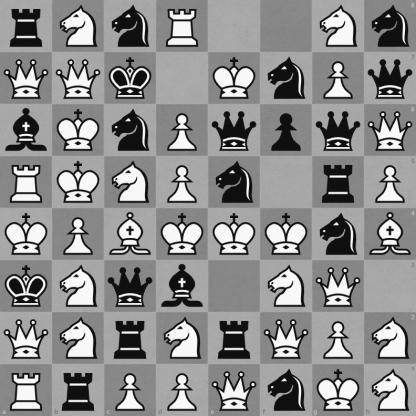B: (364, 209, 416, 260), (105, 209, 156, 260)
K: (312, 364, 364, 416), (1, 209, 52, 260), (53, 105, 104, 156), (53, 157, 104, 208), (157, 209, 208, 260), (209, 53, 260, 104), (209, 209, 260, 260), (261, 209, 312, 260)
N: (364, 312, 416, 364), (364, 364, 416, 416), (53, 1, 104, 52), (53, 261, 104, 312), (53, 313, 104, 364), (105, 157, 156, 208), (157, 313, 208, 364), (261, 261, 312, 312), (313, 1, 364, 52)
P: (156, 364, 209, 416), (364, 156, 416, 209), (104, 364, 156, 416), (53, 209, 104, 260), (157, 105, 208, 156), (157, 157, 208, 208), (313, 53, 364, 104), (313, 313, 364, 364)
Q: (364, 104, 416, 156), (209, 364, 260, 416), (1, 53, 52, 104), (1, 313, 52, 364), (53, 53, 104, 104), (261, 313, 312, 364), (313, 261, 364, 312)
R: (0, 364, 52, 416), (1, 157, 52, 208), (157, 1, 208, 52)
b: (1, 105, 52, 156), (157, 261, 208, 312)
board: (0, 0, 415, 415)
k: (1, 261, 52, 312), (105, 53, 156, 104)
n: (260, 364, 312, 416), (364, 0, 416, 52), (105, 1, 156, 52), (105, 105, 156, 156), (209, 157, 260, 208), (261, 53, 312, 104), (313, 209, 364, 260)
p: (261, 105, 312, 156)
q: (364, 52, 416, 104), (105, 261, 156, 312), (209, 105, 260, 156), (313, 105, 364, 156)
r: (52, 364, 104, 416), (1, 1, 52, 52), (105, 313, 156, 364), (209, 313, 260, 364), (313, 157, 364, 208)
